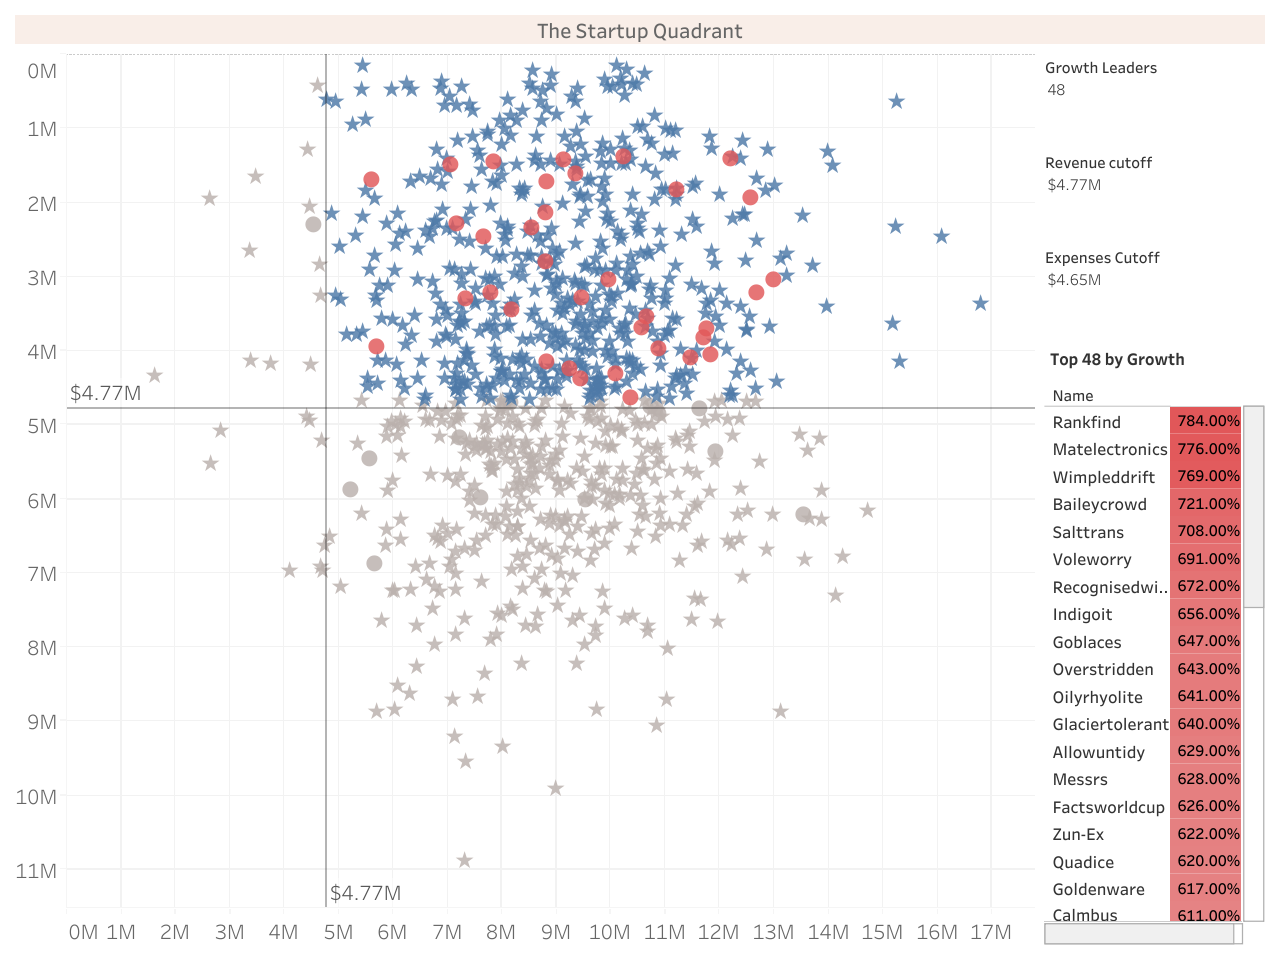

The dashboard page shown, as its layout file describes it:
{"tool":"tableau","page":{"name":"The Startup Quadrant","canvas":[1024,768],"ordinal":0},"visuals":[{"type":"text","box":[8,8,1008,36]},{"type":"worksheet","title":"Scatterpot","mark":"Shape","rows":["2015 Expenses"],"cols":["2015 Revenue"],"box":[8,44,824,716]},{"type":"parameter","param":"[Parameters].[Employees Parameter]","box":[832,44,184,79]},{"type":"parameter","param":"[Parameters].[Top 10 startups by growth Parameter]","box":[832,123,184,79]},{"type":"parameter","param":"[Parameters].[City Parameter]","box":[832,202,184,79]},{"type":"worksheet","title":"Growth","mark":"Square","rows":["Name"],"box":[832,281,184,479]}]}

Visuals, with their boxes in screenshot pixels (x1, y1, x2, y2), scaled from the page's 1024x768 canvas onto the 1279x959 screenshot:
text: <bbox>10, 10, 1269, 55</bbox>
"Scatterpot" worksheet (Shape marks): <bbox>10, 55, 1039, 949</bbox>
parameter: <bbox>1039, 55, 1269, 154</bbox>
parameter: <bbox>1039, 154, 1269, 252</bbox>
parameter: <bbox>1039, 252, 1269, 351</bbox>
"Growth" worksheet (Square marks): <bbox>1039, 351, 1269, 949</bbox>
